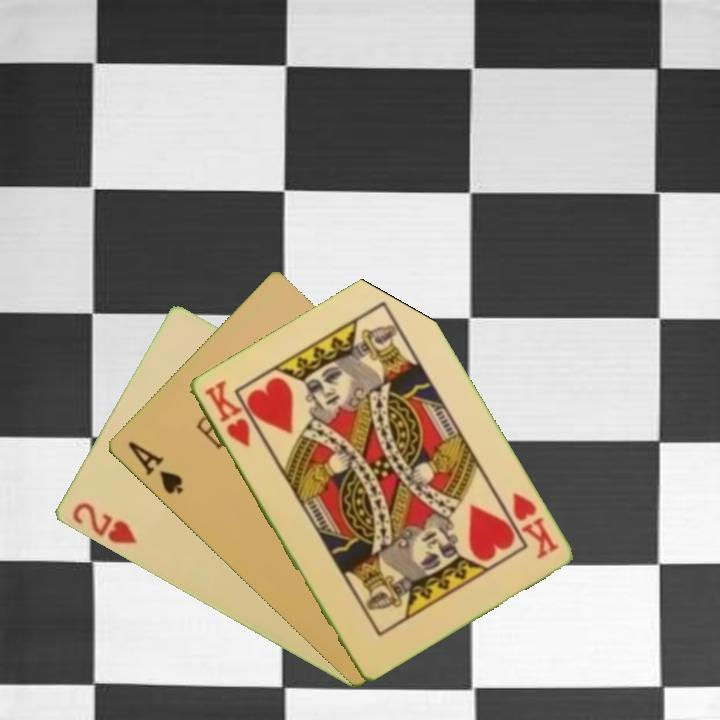2h: (68, 499, 139, 548)
As: (124, 438, 186, 498)
Kh: (200, 376, 253, 450), (508, 488, 561, 562)
